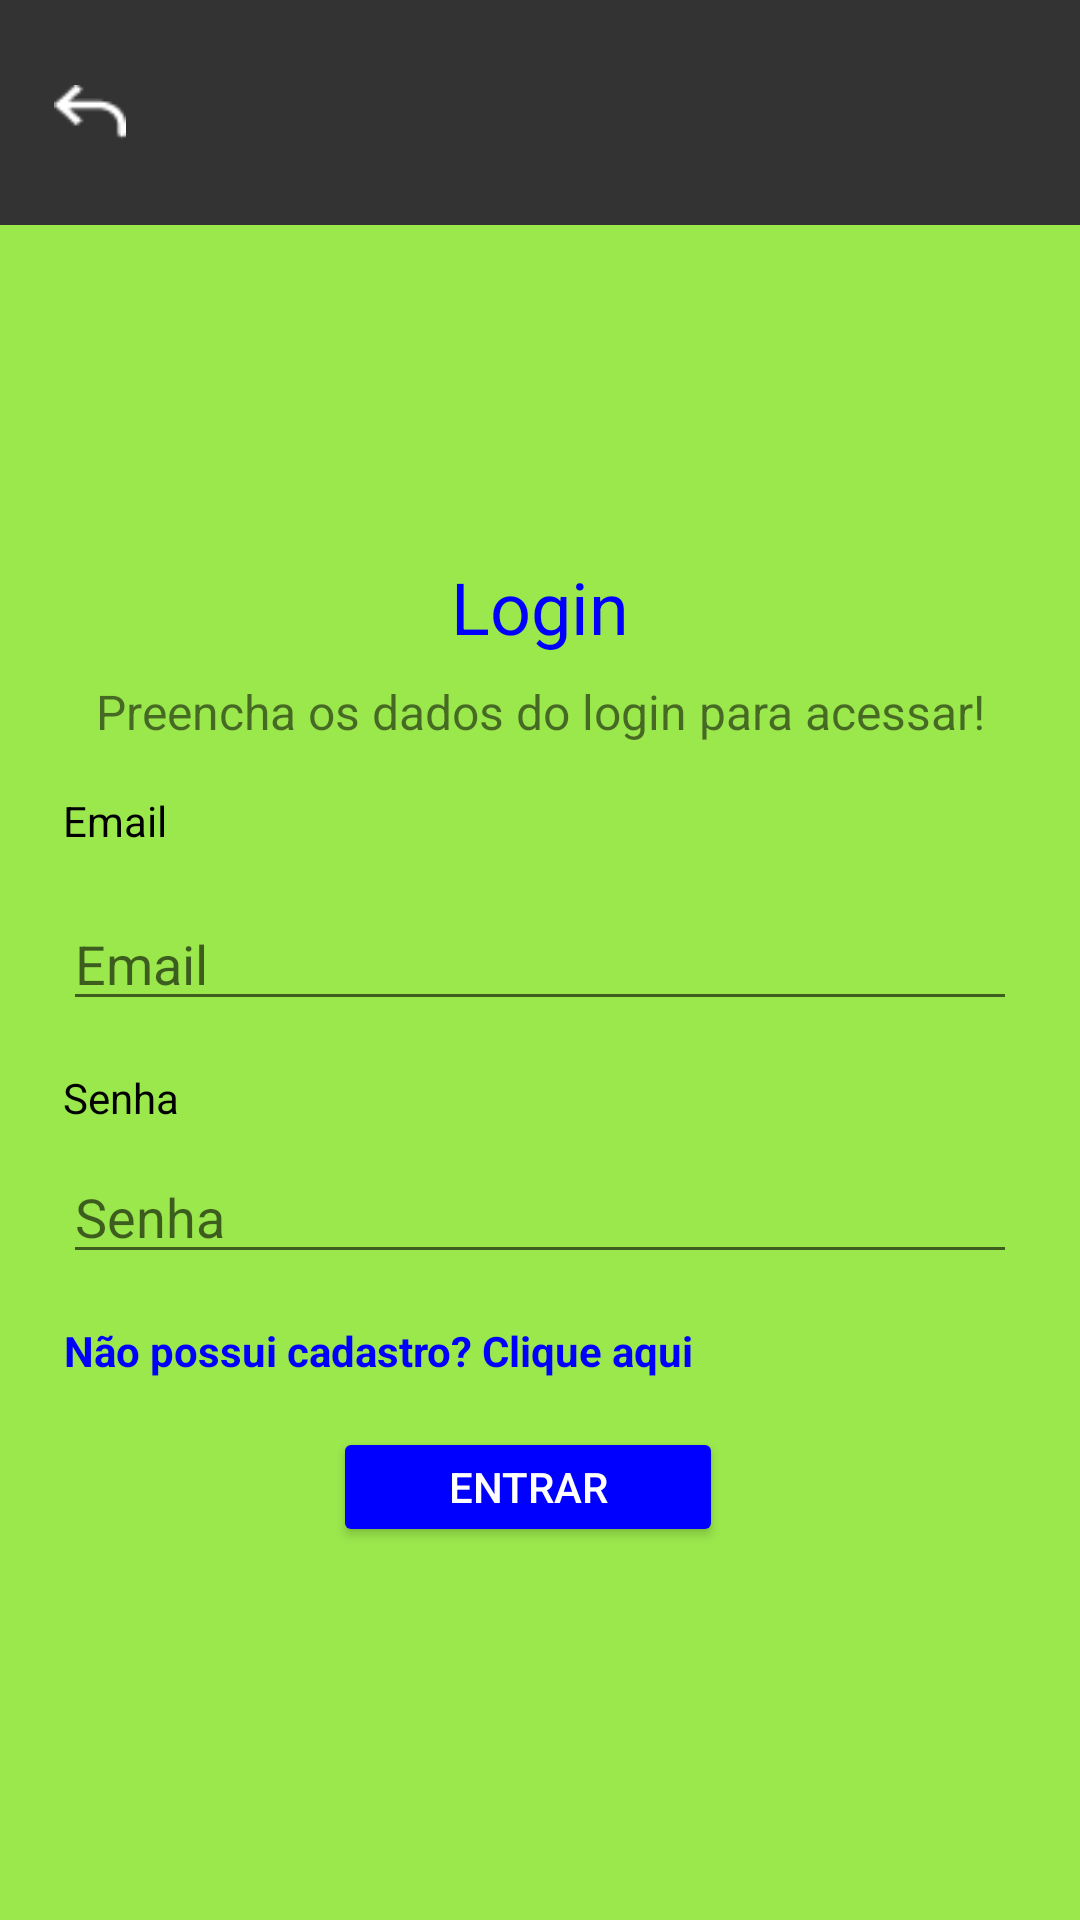

Icons on this 1080 × 1920 Android screen, each with its box as (x1, y1, x2, y2):
Icone de voltar: (54, 85, 126, 138)
